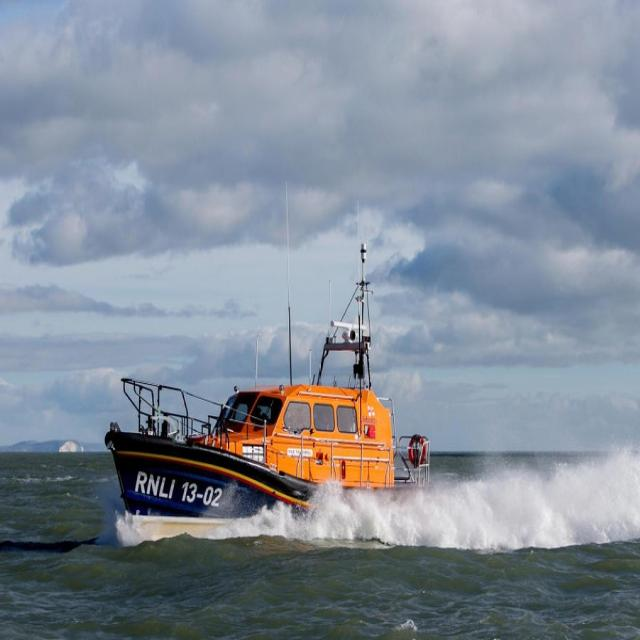houseboat: (99, 235, 442, 533)
